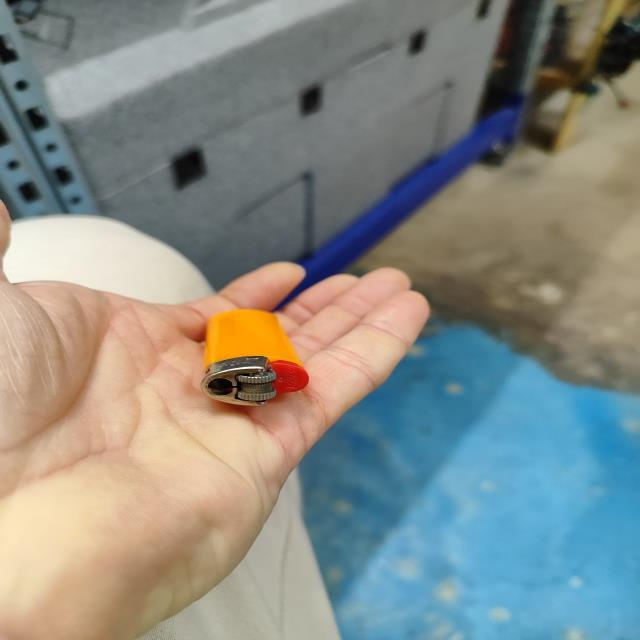lighter: (202, 309, 308, 406)
